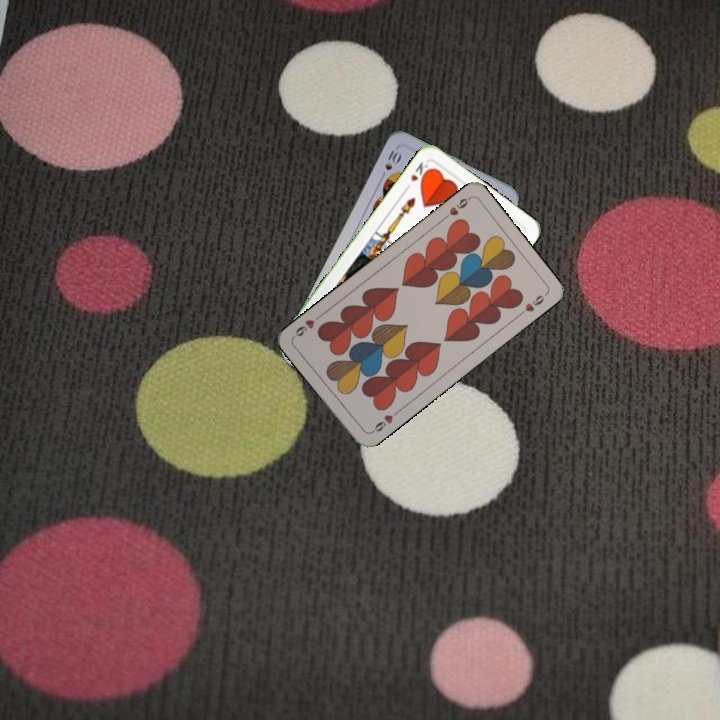H9: (439, 193, 473, 223), (367, 407, 401, 436)
HK: (406, 157, 433, 186)
S10: (376, 146, 404, 182)
